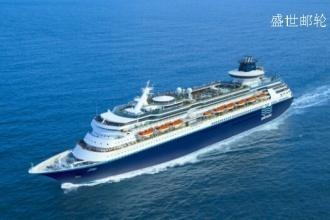youlun: (26, 54, 293, 187)
